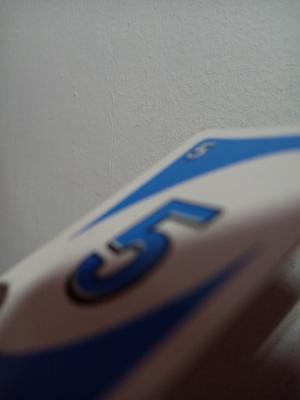blue: (5, 149, 262, 394)
num_5: (186, 142, 223, 162)
